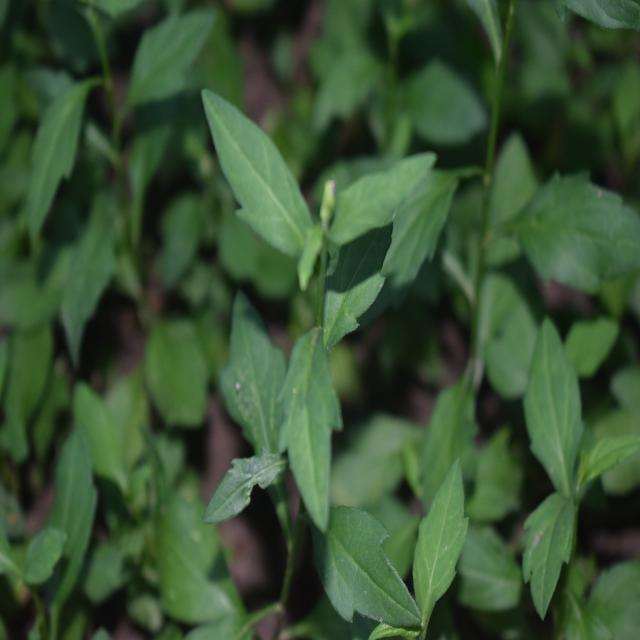Indian aster: (182, 61, 430, 538)
